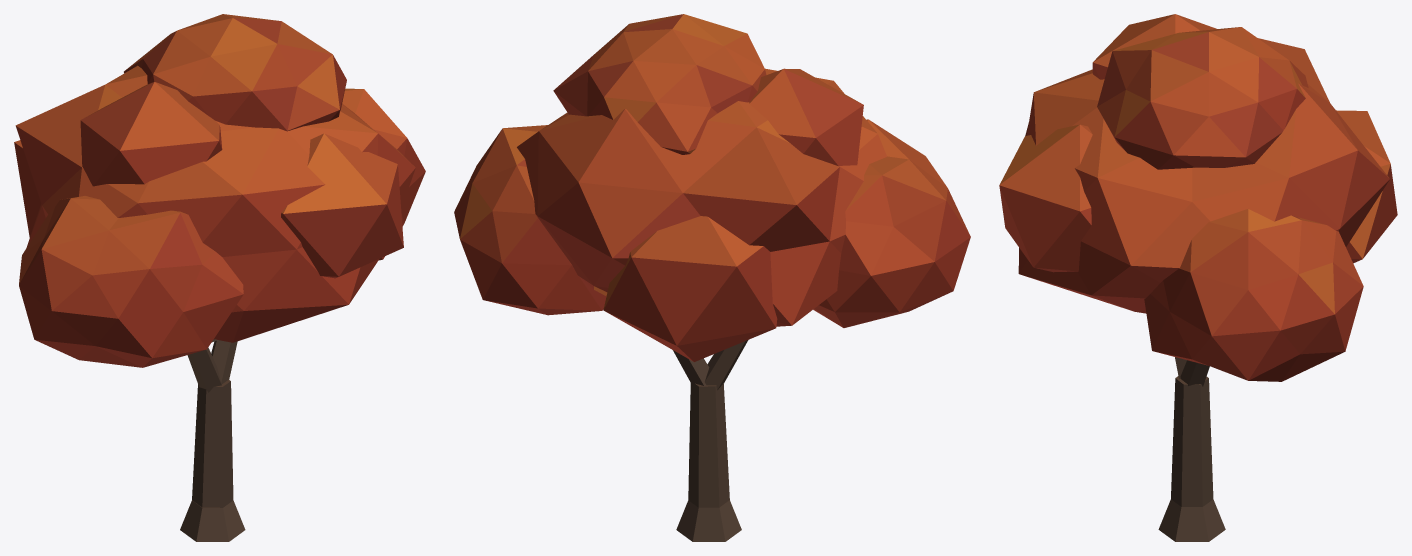
File: tree_maple_red.glb
The picture shows the model from 3 angles, left to right: view 1: azimuth 30°, elevation 25°; view 2: azimuth 150°, elevation 25°; view 3: azimuth 270°, elevation 25°; orthographic projection. The views are drawn at different scales.
Visible parts, largest first — view 1: tree_maple_red; view 2: tree_maple_red; view 3: tree_maple_red.
Part boxes in pixels (bbox=[...]): tree_maple_red: bbox=[14, 14, 425, 541]; tree_maple_red: bbox=[454, 14, 970, 541]; tree_maple_red: bbox=[999, 14, 1397, 541].
Size of the model in its own units: 4.58 by 5.04 by 3.55.
